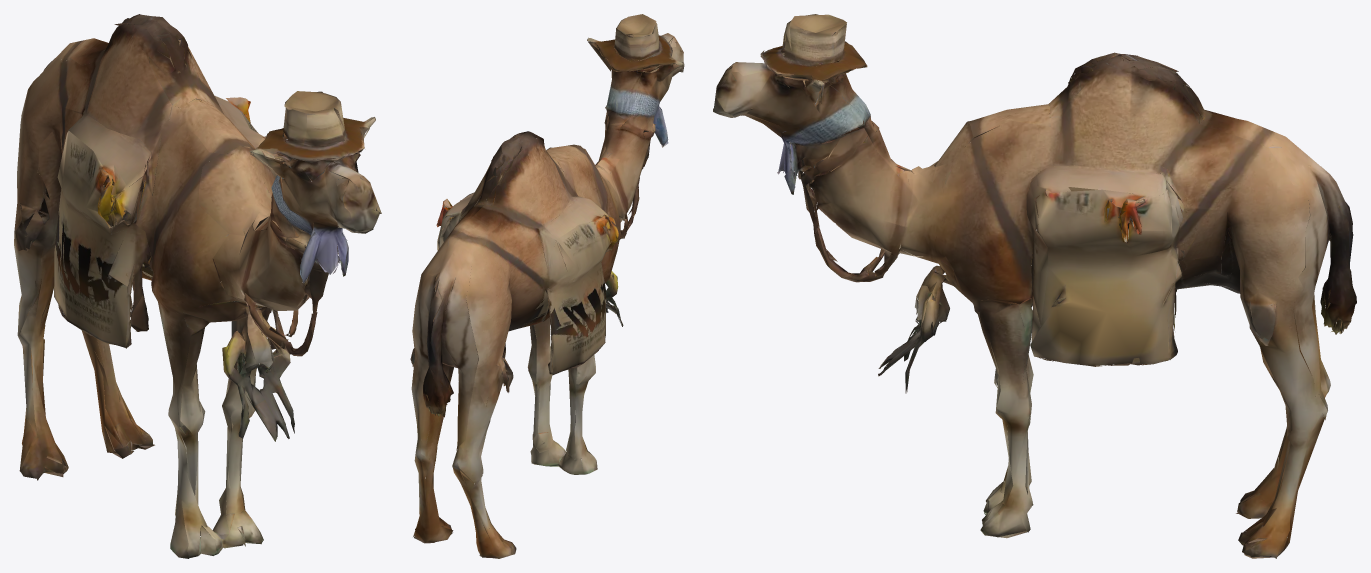
The model's file is camel_standing_decimated_2.glb.
3 renders of one model, left to right at view 1: azimuth 30°, elevation 25°; view 2: azimuth 150°, elevation 25°; view 3: azimuth 270°, elevation 25°, orthographic. The views are drawn at different scales.
Visible parts, largest first — view 1: Mesh1.0; view 2: Mesh1.0; view 3: Mesh1.0.
Boxes of the visible parts, <box> form: Mesh1.0: <box>14,14,381,558</box>; Mesh1.0: <box>410,14,684,558</box>; Mesh1.0: <box>713,14,1356,558</box>.
Bounding box in the file's own units: 0.5888 × 1.52 × 1.74.
Materials: 1 (1 with a texture image).
